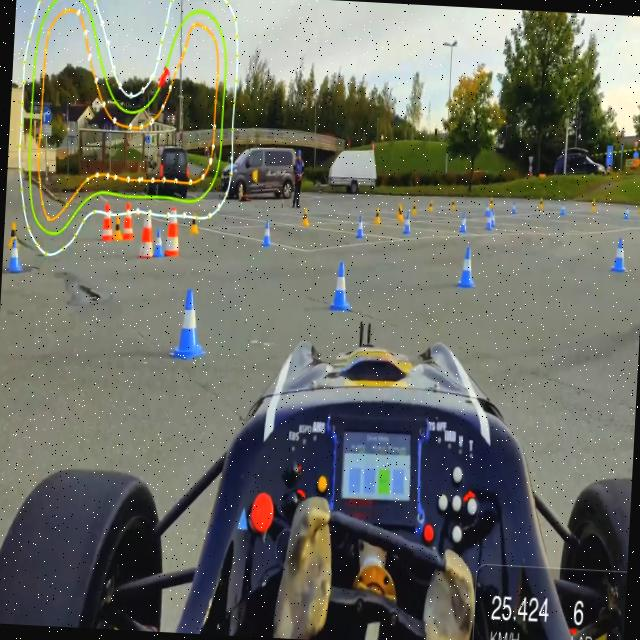blue_cone: (6, 238, 25, 274), (152, 227, 167, 260), (260, 219, 274, 247), (354, 215, 366, 239)
large_orange_cone: (137, 209, 156, 262), (165, 204, 182, 258), (100, 201, 116, 243), (122, 202, 136, 242)
yellow_cone: (5, 219, 23, 250), (112, 215, 124, 242), (189, 212, 200, 236), (300, 206, 312, 228), (372, 204, 382, 226), (397, 202, 402, 218)
